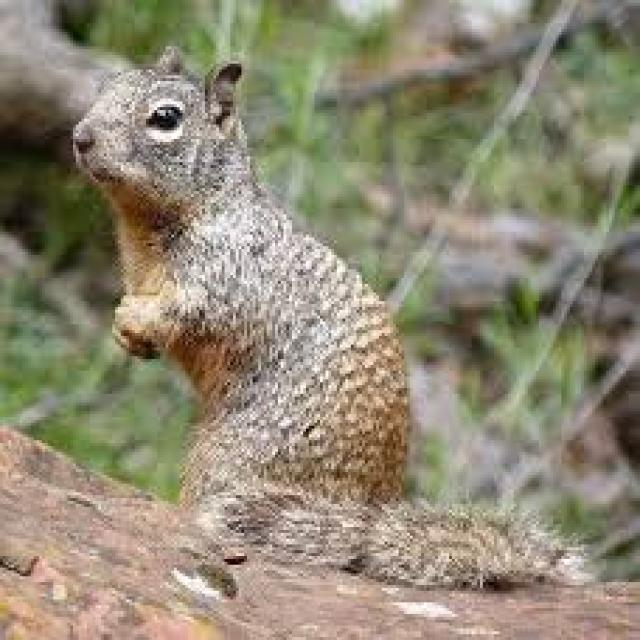Squirrel: (69, 48, 533, 593)
